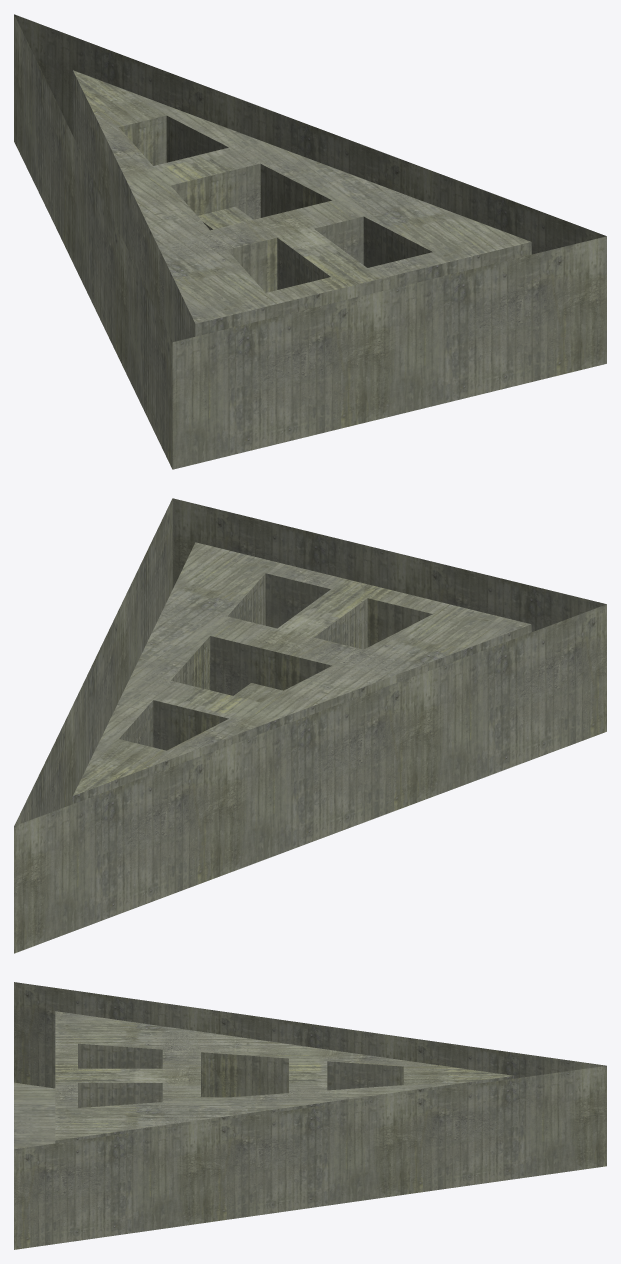
The model's file is SM_NeoLD_08_Block_01.fbx.
The picture shows the model from 3 angles, top to bottom: view 1: azimuth 30°, elevation 25°; view 2: azimuth 150°, elevation 25°; view 3: azimuth 270°, elevation 25°; orthographic projection. The views are drawn at different scales.
Parts seen in each view (by area): view 1: SM_NeoLD_08_Block_01; view 2: SM_NeoLD_08_Block_01; view 3: SM_NeoLD_08_Block_01.
Boxes of the visible parts, x1=… form: SM_NeoLD_08_Block_01: x1=14, y1=14, x2=606, y2=469; SM_NeoLD_08_Block_01: x1=14, y1=498, x2=606, y2=953; SM_NeoLD_08_Block_01: x1=14, y1=982, x2=606, y2=1249.
Bounding box in the file's own units: 2905 × 816 × 4352.
